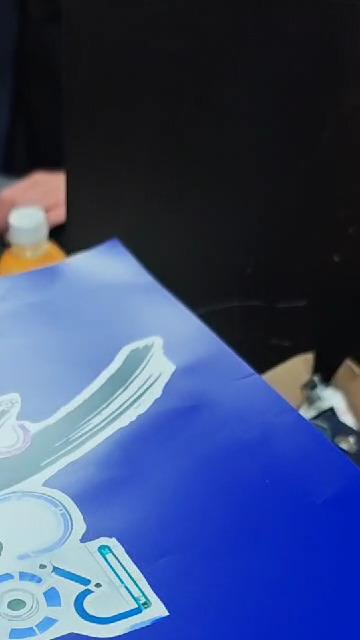B_R1: (0, 322, 186, 640)
